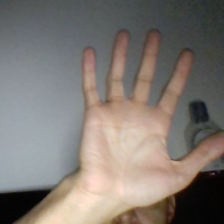left: (73, 30, 224, 207)
